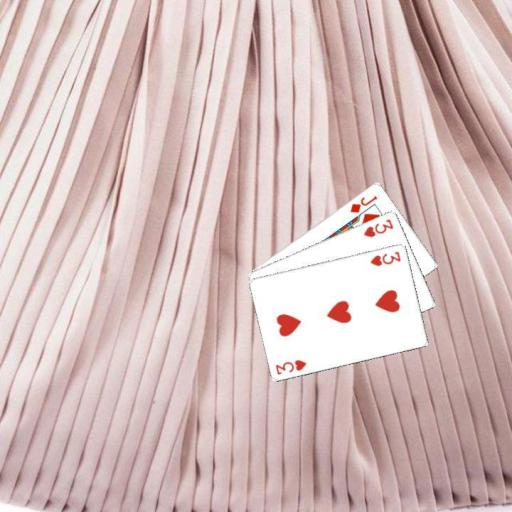3H: (361, 216, 396, 239), (272, 356, 308, 376), (367, 249, 402, 268)
JD: (347, 192, 379, 214)
